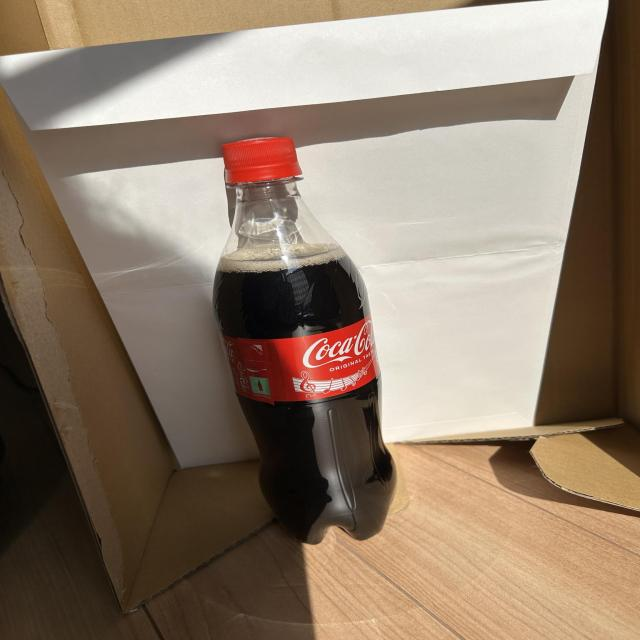high: (213, 137, 397, 544)
